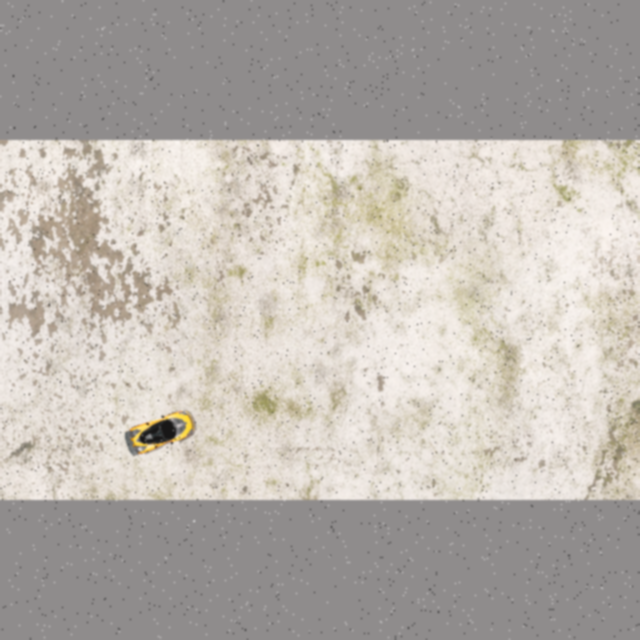car: (120, 406, 197, 460)
